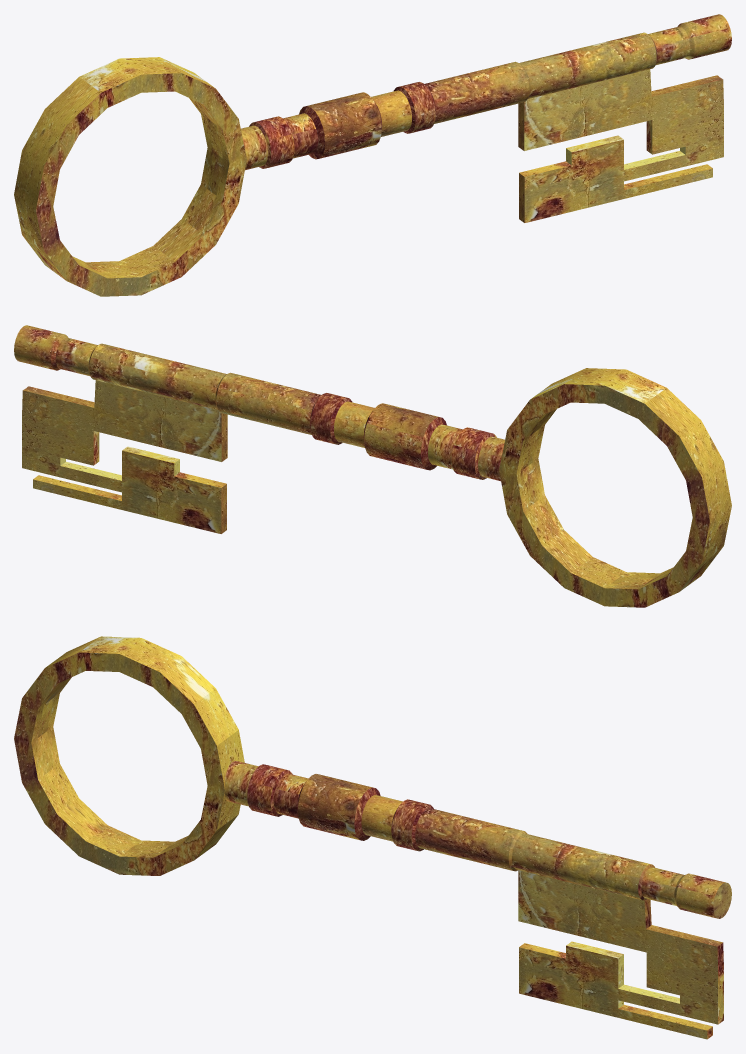
File: RustyGoldenKey.fbx
3 views of the same model, one above another, from view 1: azimuth 30°, elevation 25°; view 2: azimuth 150°, elevation 25°; view 3: azimuth 330°, elevation 25° (orthographic).
Parts seen in each view (by area): view 1: GoldenKey_gpPlane2_pPlane2; view 2: GoldenKey_gpPlane2_pPlane2; view 3: GoldenKey_gpPlane2_pPlane2.
Part boxes in pixels (bbox=[...]): GoldenKey_gpPlane2_pPlane2: bbox=[14, 14, 731, 296]; GoldenKey_gpPlane2_pPlane2: bbox=[14, 325, 731, 607]; GoldenKey_gpPlane2_pPlane2: bbox=[14, 636, 731, 1039].
Bounding box in the file's own units: 6.61 × 2.27 × 0.4502.
1 material, 1 textured.
